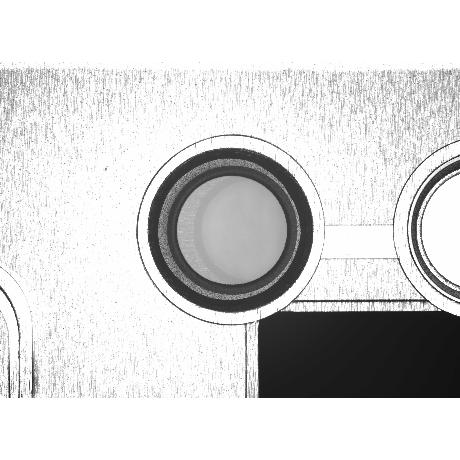Hole: (148, 149, 314, 313)
Hole2: (159, 160, 301, 300)
Hole3: (168, 166, 298, 296)
Hole4: (179, 177, 287, 285)
